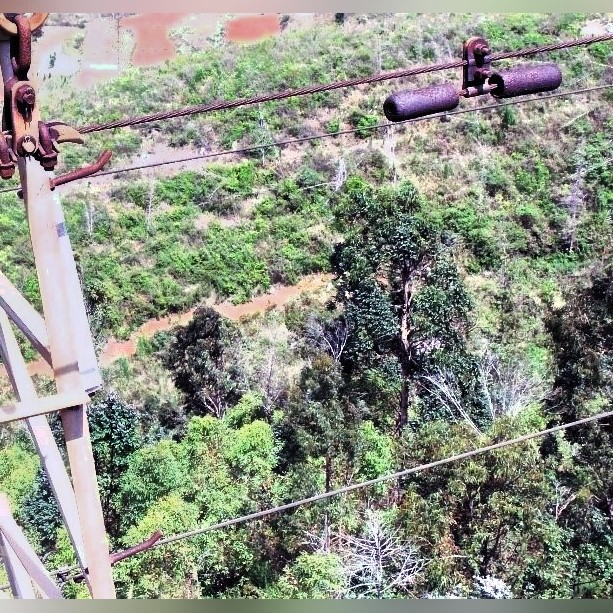Shockproof hammer: (374, 26, 571, 126)
